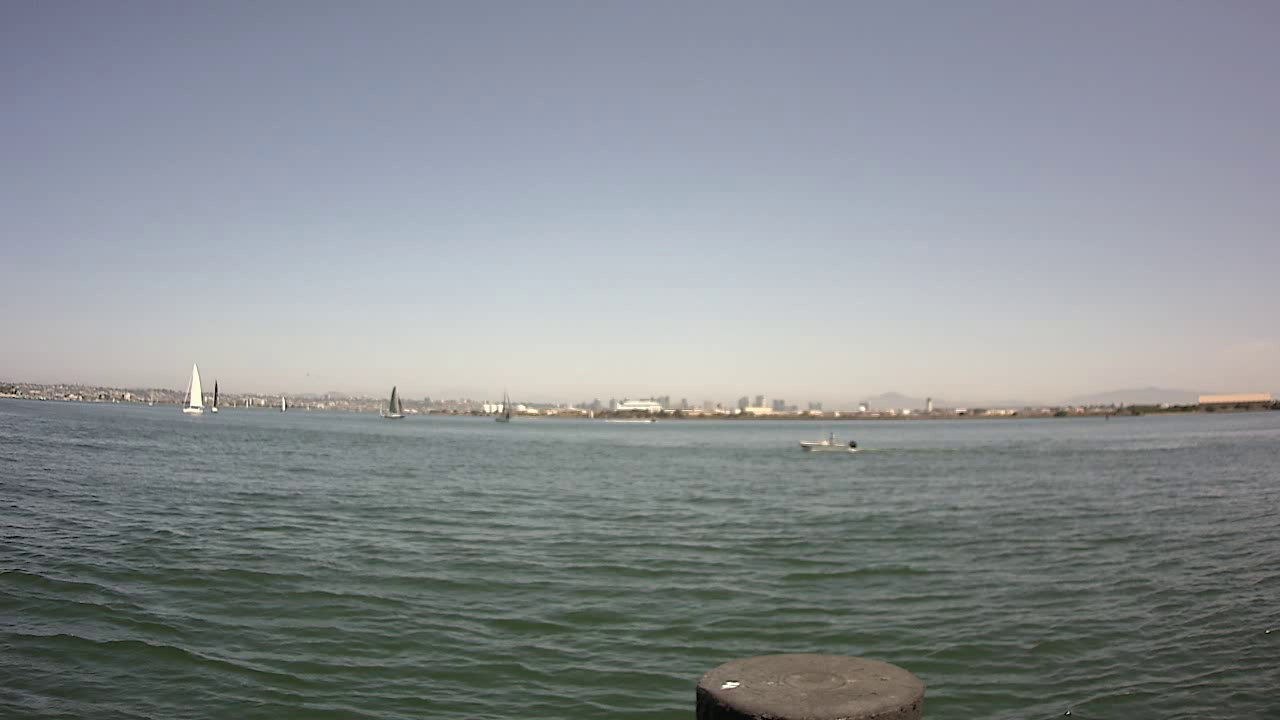target: (793, 420, 874, 453)
